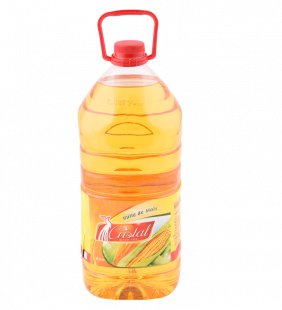CRISTAL: (72, 5, 188, 305)
